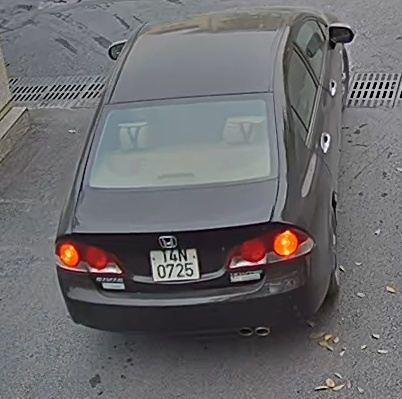vehicle plate: (142, 242, 202, 284)
